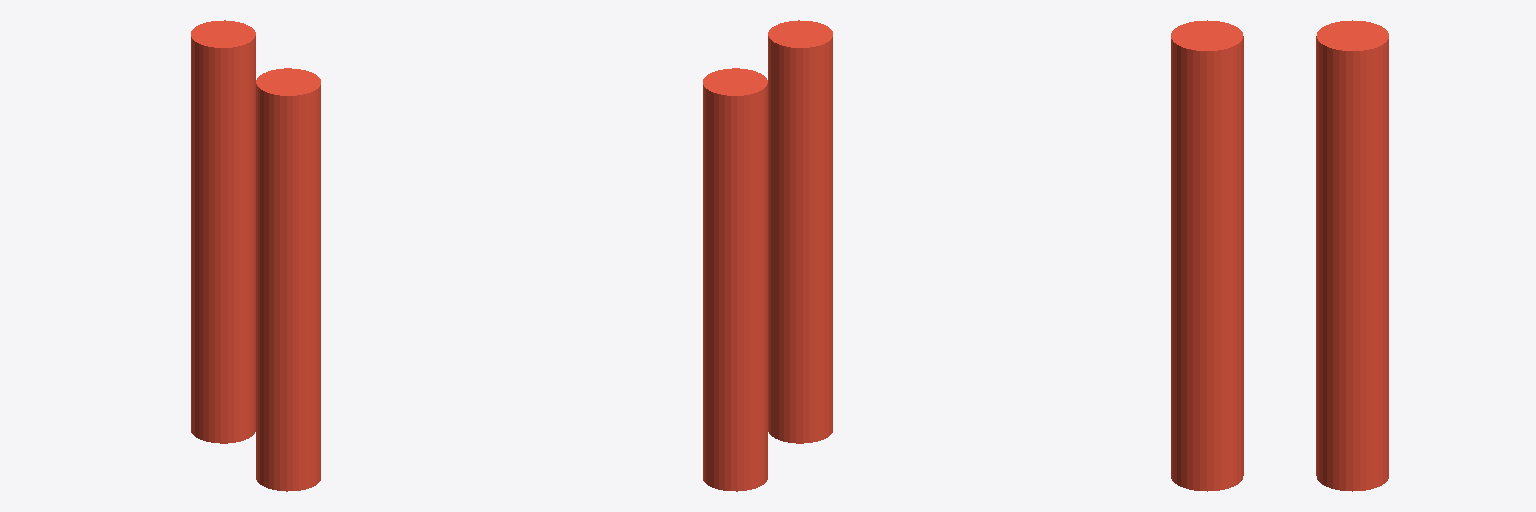
robot.urdf — obstacles:
<?xml version="1.0"?>
<robot name="obstacles"> <!-- two high cylinders-->
  <link name="obstacle_base">
    <visual>
      <origin xyz="-0.3 0.3 0.47"/>
      <geometry>
        <cylinder length="2." radius="0.15"/>
      </geometry>
      <material name="Orange">
        <color rgba="1 0.4 0.3 1"/>
      </material>
    </visual>
    <collision>
      <origin xyz="-0.3 0.3 0.47"/>
      <geometry>
        <cylinder length="2." radius="0.15"/>
      </geometry>
    </collision>
  </link>
  
  <joint name="j_object_one" type="fixed">
    <parent link="obstacle_base"/>
    <child link="l_object_one"/>
    <origin xyz="0 0 0"/>
  </joint>
  
  <link name="l_object_one">
    <visual>
      <origin xyz="-0.3 -0.3 0.47"/>
      <geometry>
        <cylinder length="2." radius="0.15"/>
      </geometry>
      <material name="Orange">
        <color rgba="1 0.4 0.3 0.55"/>
      </material>
    </visual>
    <collision>
      <origin xyz="-0.3 -0.3 0.47"/>
      <geometry>
        <cylinder length="2." radius="0.15"/>
      </geometry>
    </collision>
  </link>
</robot>

--- Facts derived from the render (not from the file) ---
3 views of the same robot in one strip: view 1: azimuth 30°, elevation 25°; view 2: azimuth 150°, elevation 25°; view 3: azimuth 270°, elevation 25° (orthographic).
Model obstacles with 2 links and 1 joints (1 fixed), rooted at obstacle_base, posed all joints at 0.
Visible links, largest first — view 1: obstacle_base, l_object_one; view 2: obstacle_base, l_object_one; view 3: obstacle_base, l_object_one.
Boxes of the visible links, x1,y1,x2,y2 form: obstacle_base: (191,20,255,443); l_object_one: (256,68,320,491); obstacle_base: (703,68,767,491); l_object_one: (768,20,832,443); obstacle_base: (1316,20,1388,491); l_object_one: (1171,20,1243,491).
Size in the robot's own frame: 0.3 by 0.9 by 2 metres.
Geometry: primitives only (box / cylinder / sphere), no mesh files.